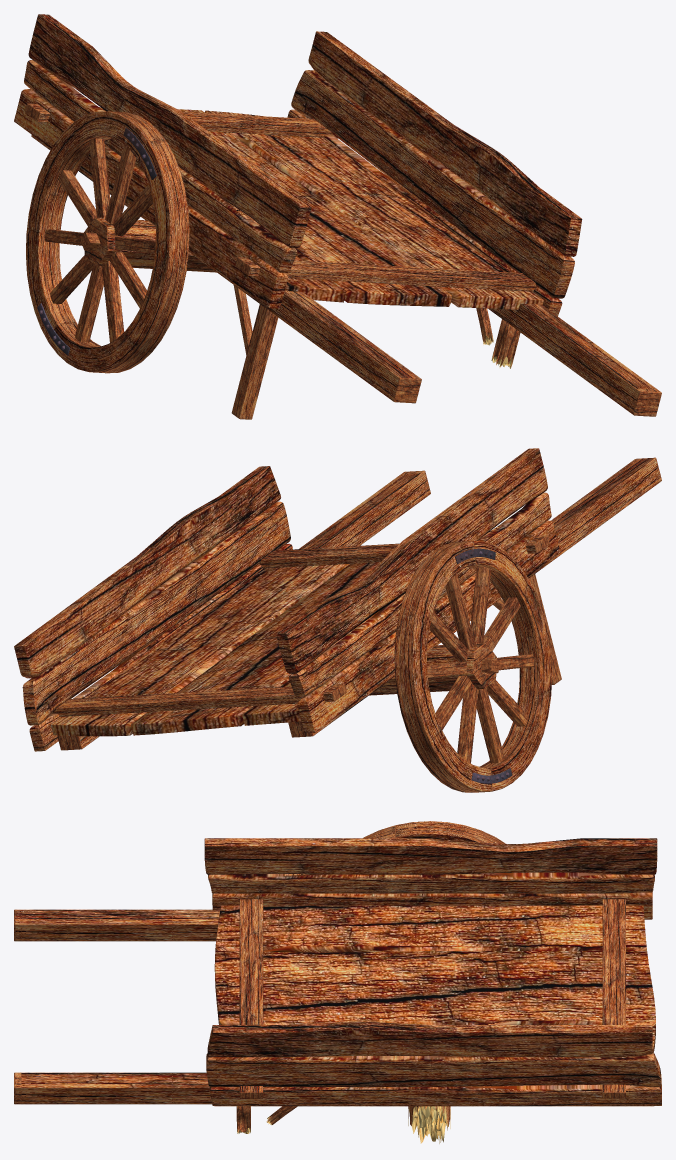
The model's file is chariot.fbx.
3 renders of one model, top to bottom at view 1: azimuth 30°, elevation 25°; view 2: azimuth 150°, elevation 25°; view 3: azimuth 270°, elevation 25°, orthographic. The views are drawn at different scales.
Visible parts, largest first — view 1: Chariot|Chariot.001_L_chariot_blend_5e3bd347-84c0-4e3e-_99e2, Chariot|Chariot.001_L_chariot_blend_5e3bd347-84c0-4e3e-_99e, Chariot|Chariot.001_L_chariot_blend_5e3bd347-84c0-4e3e-_99e.; view 2: Chariot|Chariot.001_L_chariot_blend_5e3bd347-84c0-4e3e-_99e2, Chariot|Chariot.001_L_chariot_blend_5e3bd347-84c0-4e3e-_99e, Chariot|Chariot.001_L_chariot_blend_5e3bd347-84c0-4e3e-_99e.; view 3: Chariot|Chariot.001_L_chariot_blend_5e3bd347-84c0-4e3e-_99e2, Chariot|Chariot.001_L_chariot_blend_5e3bd347-84c0-4e3e-_99e.
Boxes of the visible parts, x1,y1,x2,y2 form: Chariot|Chariot.001_L_chariot_blend_5e3bd347-84c0-4e3e-_99e2: (14,14,661,419); Chariot|Chariot.001_L_chariot_blend_5e3bd347-84c0-4e3e-_99e: (26,111,216,373); Chariot|Chariot.001_L_chariot_blend_5e3bd347-84c0-4e3e-_99e.: (37,127,156,355); Chariot|Chariot.001_L_chariot_blend_5e3bd347-84c0-4e3e-_99e2: (14,448,661,751); Chariot|Chariot.001_L_chariot_blend_5e3bd347-84c0-4e3e-_99e: (369,541,552,792); Chariot|Chariot.001_L_chariot_blend_5e3bd347-84c0-4e3e-_99e.: (455,548,512,783); Chariot|Chariot.001_L_chariot_blend_5e3bd347-84c0-4e3e-_99e2: (14,838,661,1133); Chariot|Chariot.001_L_chariot_blend_5e3bd347-84c0-4e3e-_99e: (363,821,505,1143).
Size of the model in its own units: 171 by 97.44 by 285.
